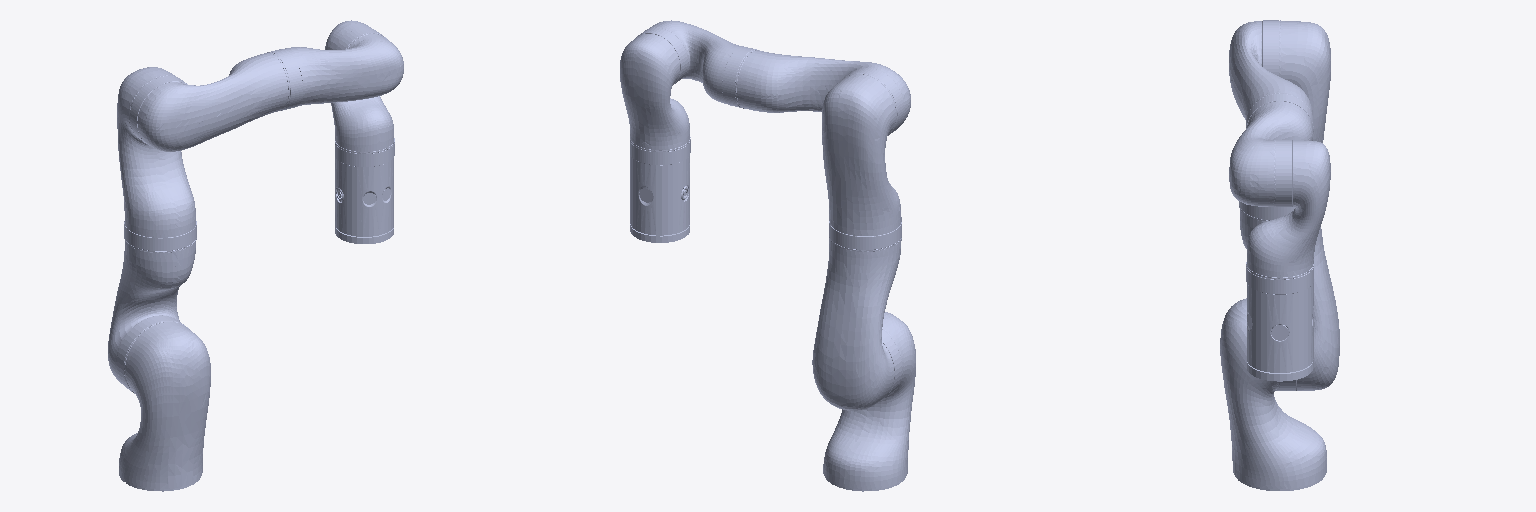
robot.urdf — tcb705f:
<?xml version="1.0" encoding="utf-8"?>
<!-- This URDF was automatically created by SolidWorks to URDF Exporter! Originally created by Stephen Brawner (brawner@gmail.com) 
     Commit Version: 1.6.0-4-g7f85cfe  Build Version: 1.6.7995.38578
     For more information, please see http://wiki.ros.org/sw_urdf_exporter -->
<robot
  name="tcb705f">
  <mujoco>
    <compiler
      meshdir="../meshes/"
      discardvisual="false"
    />
  </mujoco> 
  <link
    name="link0">
    <inertial>
      <origin
        xyz="0.000708831292588154 -8.6107534914906E-05 0.0437241147546662"
        rpy="0 0 0" />
      <mass
        value="0.184997778677384" />
      <inertia
        ixx="0.000408655880224899"
        ixy="-6.47925326858513E-07"
        ixz="3.45905947380277E-06"
        iyy="0.000402045698173365"
        iyz="-4.42033155327603E-07"
        izz="0.000394929591269372" />
    </inertial>
    <visual>
      <origin
        xyz="0 0 0"
        rpy="0 0 0" />
      <geometry>
        <mesh
          filename="package://tl_description/meshes/tcb705f/link0.STL" />
      </geometry>
      <material
        name="">
        <color
          rgba="0.792156862745098 0.819607843137255 0.933333333333333 1" />
      </material>
    </visual>
    <collision>
      <origin
        xyz="0 0 0"
        rpy="0 0 0" />
      <geometry>
        <mesh
          filename="package://tl_description/meshes/tcb705f/link0.STL" />
      </geometry>
    </collision>
  </link>
  <link
    name="link1">
    <inertial>
      <origin
        xyz="-1.47467364543795E-05 -0.0147035745839652 0.0741700653729861"
        rpy="0 0 0" />
      <mass
        value="0.14078274314442" />
      <inertia
        ixx="0.000389165158363872"
        ixy="7.76850517532585E-09"
        ixz="-3.45965366455427E-08"
        iyy="0.000404601054210795"
        iyz="5.39676858807366E-05"
        izz="0.000158801770197842" />
    </inertial>
    <visual>
      <origin
        xyz="0 0 0"
        rpy="0 0 0" />
      <geometry>
        <mesh
          filename="package://tl_description/meshes/tcb705f/link1.STL" />
      </geometry>
      <material
        name="">
        <color
          rgba="0.792156862745098 0.819607843137255 0.933333333333333 1" />
      </material>
    </visual>
    <collision>
      <origin
        xyz="0 0 0"
        rpy="0 0 0" />
      <geometry>
        <mesh
          filename="package://tl_description/meshes/tcb705f/link1.STL" />
      </geometry>
    </collision>
  </link>
  <joint
    name="joint1"
    type="revolute">
    <origin
      xyz="0 0 0.11455"
      rpy="0 0 0" />
    <parent
      link="link0" />
    <child
      link="link1" />
    <axis
      xyz="0 0 1" />
    <limit
      lower="-3.1226"
      upper="3.1226"
      effort="0"
      velocity="0" />
  </joint>
  <link
    name="link2">
    <inertial>
      <origin
        xyz="8.61535459727668E-06 -0.0560508787266447 0.0117257364090613"
        rpy="0 0 0" />
      <mass
        value="0.124463620303859" />
      <inertia
        ixx="0.000370601578271224"
        ixy="-9.27831105610943E-09"
        ixz="-9.42550206191649E-09"
        iyy="0.000121246909389466"
        iyz="-7.13455520508631E-05"
        izz="0.000380204304484532" />
    </inertial>
    <visual>
      <origin
        xyz="0 0 0"
        rpy="0 0 0" />
      <geometry>
        <mesh
          filename="package://tl_description/meshes/tcb705f/link2.STL" />
      </geometry>
      <material
        name="">
        <color
          rgba="0.792156862745098 0.819607843137255 0.933333333333333 1" />
      </material>
    </visual>
    <collision>
      <origin
        xyz="0 0 0"
        rpy="0 0 0" />
      <geometry>
        <mesh
          filename="package://tl_description/meshes/tcb705f/link2.STL" />
      </geometry>
    </collision>
  </link>
  <joint
    name="joint2"
    type="revolute">
    <origin
      xyz="0 0.00715 0.12745"
      rpy="-1.5708 0 0" />
    <parent
      link="link1" />
    <child
      link="link2" />
    <axis
      xyz="0 0 1" />
    <limit
      lower="-2.3550"
      upper="2.3550"
      effort="0"
      velocity="0" />
  </joint>
  <link
    name="link3">
    <inertial>
      <origin
        xyz="-0.000129631315123078 0.0129892407646547 0.0730749657672627"
        rpy="0 0 0" />
      <mass
        value="0.114590469364388" />
      <inertia
        ixx="0.000277982717731438"
        ixy="-1.69536546152647E-07"
        ixz="9.64200178666299E-07"
        iyy="0.000287463601314177"
        iyz="-3.76358084293264E-05"
        izz="9.72113083114316E-05" />
    </inertial>
    <visual>
      <origin
        xyz="0 0 0"
        rpy="0 0 0" />
      <geometry>
        <mesh
          filename="package://tl_description/meshes/tcb705f/link3.STL" />
      </geometry>
      <material
        name="">
        <color
          rgba="0.792156862745098 0.819607843137255 0.933333333333333 1" />
      </material>
    </visual>
    <collision>
      <origin
        xyz="0 0 0"
        rpy="0 0 0" />
      <geometry>
        <mesh
          filename="package://tl_description/meshes/tcb705f/link3.STL" />
      </geometry>
    </collision>
  </link>
  <joint
    name="joint3"
    type="revolute">
    <origin
      xyz="0 -0.14065 -0.00715"
      rpy="1.5708 0 0" />
    <parent
      link="link2" />
    <child
      link="link3" />
    <axis
      xyz="0 0 1" />
    <limit
      lower="-3.1226"
      upper="3.1226"
      effort="0"
      velocity="0" />
  </joint>
  <link
    name="link4">
    <inertial>
      <origin
        xyz="0.0577535050722116 -6.48637250616479E-06 -0.00898472398684805"
        rpy="0 0 0" />
      <mass
        value="0.0945260952124961" />
      <inertia
        ixx="6.42616764244558E-05"
        ixy="5.30816342811742E-08"
        ixz="-4.60316588385103E-05"
        iyy="0.000237785884377827"
        iyz="1.0649469511716E-09"
        izz="0.000240859360084722" />
    </inertial>
    <visual>
      <origin
        xyz="0 0 0"
        rpy="0 0 0" />
      <geometry>
        <mesh
          filename="package://tl_description/meshes/tcb705f/link4.STL" />
      </geometry>
      <material
        name="">
        <color
          rgba="0.792156862745098 0.819607843137255 0.933333333333333 1" />
      </material>
    </visual>
    <collision>
      <origin
        xyz="0 0 0"
        rpy="0 0 0" />
      <geometry>
        <mesh
          filename="package://tl_description/meshes/tcb705f/link4.STL" />
      </geometry>
    </collision>
  </link>
  <joint
    name="joint4"
    type="revolute">
    <origin
      xyz="0 -0.00815 0.12935"
      rpy="-1.5708 0 0" />
    <parent
      link="link3" />
    <child
      link="link4" />
    <axis
      xyz="0 0 1" />
    <limit
      lower="-4.0666"
      upper="0.9250"
      effort="0"
      velocity="0" />
  </joint>
  <link
    name="link5">
    <inertial>
      <origin
        xyz="-1.01576500798339E-05 -0.0129940460625446 -0.0554922926187578"
        rpy="0 0 0" />
      <mass
        value="0.0720848693646564" />
      <inertia
        ixx="0.000105414971531602"
        ixy="-1.21042676072271E-08"
        ixz="2.50153804601233E-09"
        iyy="0.000106134759361018"
        iyz="-1.86457228517019E-05"
        izz="4.55695497865811E-05" />
    </inertial>
    <visual>
      <origin
        xyz="0 0 0"
        rpy="0 0 0" />
      <geometry>
        <mesh
          filename="package://tl_description/meshes/tcb705f/link5.STL" />
      </geometry>
      <material
        name="">
        <color
          rgba="0.792156862745098 0.819607843137255 0.933333333333333 1" />
      </material>
    </visual>
    <collision>
      <origin
        xyz="0 0 0"
        rpy="0 0 0" />
      <geometry>
        <mesh
          filename="package://tl_description/meshes/tcb705f/link5.STL" />
      </geometry>
    </collision>
  </link>
  <joint
    name="joint5"
    type="revolute">
    <origin
      xyz="0.13665 0 0.00815"
      rpy="1.5708 0 -1.5708" />
    <parent
      link="link4" />
    <child
      link="link5" />
    <axis
      xyz="0 0 -1" />
    <limit
      lower="-3.1226"
      upper="3.1226"
      effort="0"
      velocity="0" />
  </joint>
  <link
    name="link6">
    <inertial>
      <origin
        xyz="-0.036930522856271 -1.0365583421601E-06 -0.0122183580425973"
        rpy="0 0 0" />
      <mass
        value="0.0641139372794299" />
      <inertia
        ixx="4.10038205081249E-05"
        ixy="7.53017552323075E-09"
        ixz="2.10916544931274E-05"
        iyy="9.88032590184974E-05"
        iyz="3.16811685296408E-09"
        izz="9.73772733093268E-05" />
    </inertial>
    <visual>
      <origin
        xyz="0 0 0"
        rpy="0 0 0" />
      <geometry>
        <mesh
          filename="package://tl_description/meshes/tcb705f/link6.STL" />
      </geometry>
      <material
        name="">
        <color
          rgba="0.792156862745098 0.819607843137255 0.933333333333333 1" />
      </material>
    </visual>
    <collision>
      <origin
        xyz="0 0 0"
        rpy="0 0 0" />
      <geometry>
        <mesh
          filename="package://tl_description/meshes/tcb705f/link6.STL" />
      </geometry>
    </collision>
  </link>
  <joint
    name="joint6"
    type="revolute">
    <origin
      xyz="0 0.00365 -0.09335"
      rpy="1.5708 0 0" />
    <parent
      link="link5" />
    <child
      link="link6" />
    <axis
      xyz="0 0 -1" />
    <limit
      lower="-3.8921"
      upper="0.7505"
      effort="0"
      velocity="0" />
  </joint>
  <link
    name="link7">
    <inertial>
      <origin
        xyz="-0.00018765260700726 3.81811307326729E-05 -0.0324174241261512"
        rpy="0 0 0" />
      <mass
        value="0.126841500013134" />
      <inertia
        ixx="0.000104196465102671"
        ixy="-1.52208633371926E-08"
        ixz="-2.97327692991446E-07"
        iyy="0.000105247822335002"
        iyz="3.4027528942263E-08"
        izz="6.69703542124938E-05" />
    </inertial>
    <visual>
      <origin
        xyz="0 0 0"
        rpy="0 0 0" />
      <geometry>
        <mesh
          filename="package://tl_description/meshes/tcb705f/link7.STL" />
      </geometry>
      <material
        name="">
        <color
          rgba="0.792156862745098 0.819607843137255 0.933333333333333 1" />
      </material>
    </visual>
    <collision>
      <origin
        xyz="0 0 0"
        rpy="0 0 0" />
      <geometry>
        <mesh
          filename="package://tl_description/meshes/tcb705f/link7.STL" />
      </geometry>
    </collision>
  </link>
  <joint
    name="joint7"
    type="revolute">
    <origin
      xyz="-0.1855 0 0.00365"
      rpy="1.5708 0 -1.5708" />
    <parent
      link="link6" />
    <child
      link="link7" />
    <axis
      xyz="0 0 1" />
    <limit
      lower="-3.1226"
      upper="3.1226"
      effort="0"
      velocity="0" />
  </joint>
</robot>

--- Facts derived from the render (not from the file) ---
The picture shows the robot from 3 angles, left to right: view 1: azimuth 30°, elevation 25°; view 2: azimuth 150°, elevation 25°; view 3: azimuth 270°, elevation 25°; orthographic projection.
Robot: tcb705f — 8 links, 7 joints (7 revolute); root link link0; default pose: every joint at zero.
Visible links, largest first — view 1: link1, link4, link3, link2, link5, link7, link6; view 2: link2, link3, link1, link6, link4, link7, link5; view 3: link1, link6, link5, link7, link3, link2, link4.
Boxes of the visible links, x1,y1,x2,y2 form: link1: [117, 315, 210, 491]; link4: [137, 49, 302, 151]; link3: [117, 67, 195, 237]; link2: [108, 221, 196, 383]; link5: [285, 28, 403, 106]; link7: [335, 157, 393, 243]; link6: [325, 20, 394, 166]; link2: [812, 221, 901, 410]; link3: [822, 68, 904, 235]; link1: [823, 312, 915, 491]; link6: [620, 34, 690, 164]; link4: [722, 46, 910, 126]; link7: [630, 155, 689, 242]; link5: [637, 20, 741, 103]; link1: [1220, 298, 1326, 490]; link6: [1246, 140, 1330, 294]; link5: [1229, 101, 1313, 206]; link7: [1247, 283, 1313, 381]; link3: [1262, 20, 1330, 142]; link2: [1239, 201, 1339, 390]; link4: [1229, 21, 1313, 135].
Bounding box of the posed robot: 0.3008 × 0.1038 × 0.428 m (x, y, z).
Meshes: 8 distinct files referenced, 7 mesh visuals loaded (7 binary STL); not drawn: 1 (reference not matched to a file when rendering).
